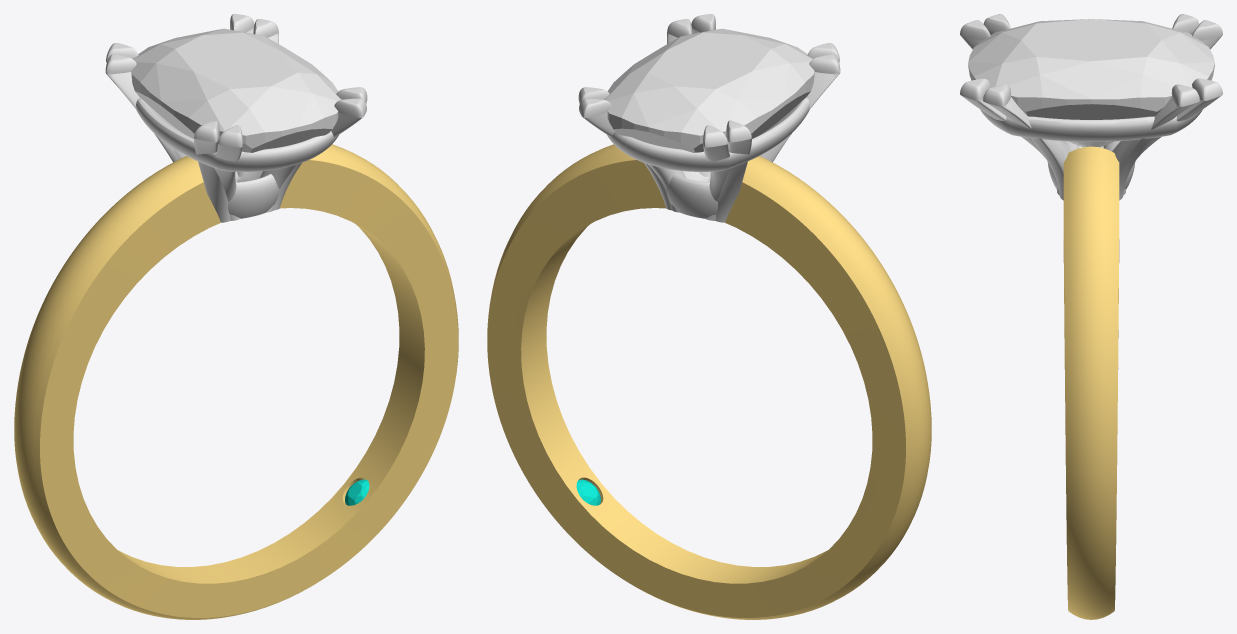
File: AndrewPTYGeng.glb
3 renders of one model, left to right at view 1: azimuth 30°, elevation 25°; view 2: azimuth 150°, elevation 25°; view 3: azimuth 270°, elevation 25°, orthographic.
Parts seen in each view (by area): view 1: Andrew YG for 3d model, Andrew dia for 3d model, Andrew PT for 3d model; view 2: Andrew YG for 3d model, Andrew dia for 3d model, Andrew PT for 3d model; view 3: Andrew YG for 3d model, Andrew dia for 3d model, Andrew PT for 3d model.
Boxes of the visible parts, <box> form: Andrew YG for 3d model: <box>14,144,458,619</box>; Andrew dia for 3d model: <box>131,28,341,152</box>; Andrew PT for 3d model: <box>105,14,367,222</box>; Andrew YG for 3d model: <box>487,144,931,619</box>; Andrew dia for 3d model: <box>604,28,814,152</box>; Andrew PT for 3d model: <box>578,14,840,222</box>; Andrew YG for 3d model: <box>1063,146,1119,619</box>; Andrew dia for 3d model: <box>968,19,1214,147</box>; Andrew PT for 3d model: <box>960,14,1222,200</box>.
Bounding box in the file's own units: 19.9 × 24.11 × 10.34.
